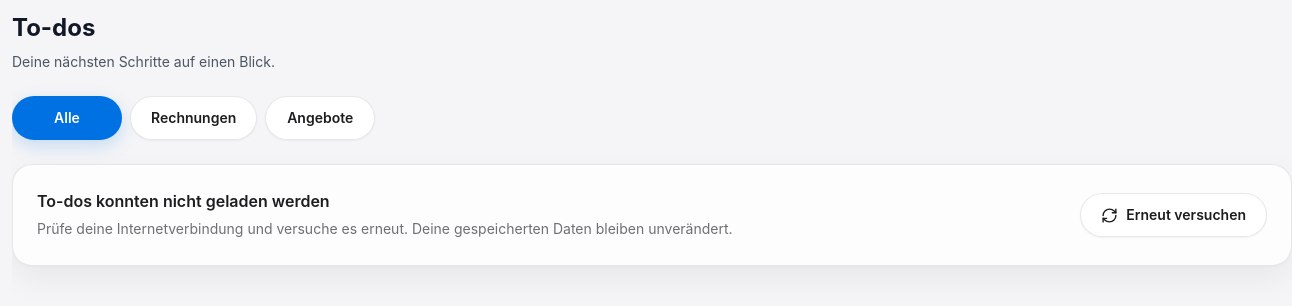
Test case: TodosPage loading states › does not claim that there are no todos when loading failed
Expected: the message shows "To-dos konnten nicht geladen werden", [37,191,330,211]
Expected: the text "Keine offenen To-dos" is not shown
Step 1. Click the button "Erneut versuchen" → (1174, 215), box [1080,193,1267,237]
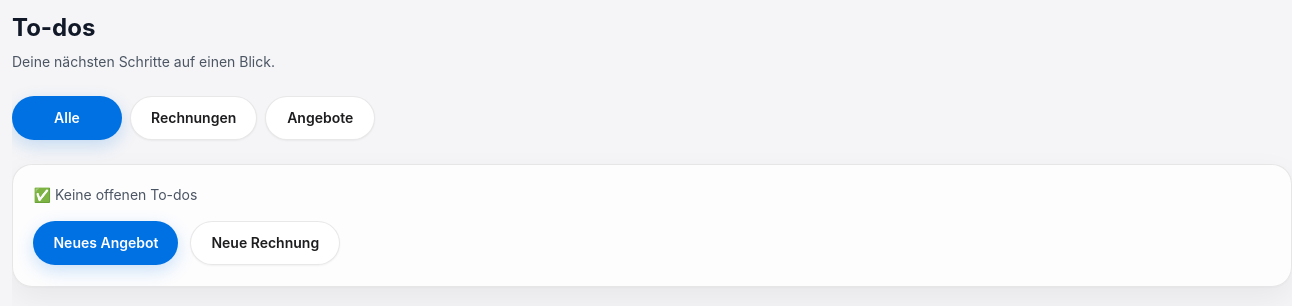
Expected: the text "✅ Keine offenen To-dos" is shown, [34,186,197,206]
